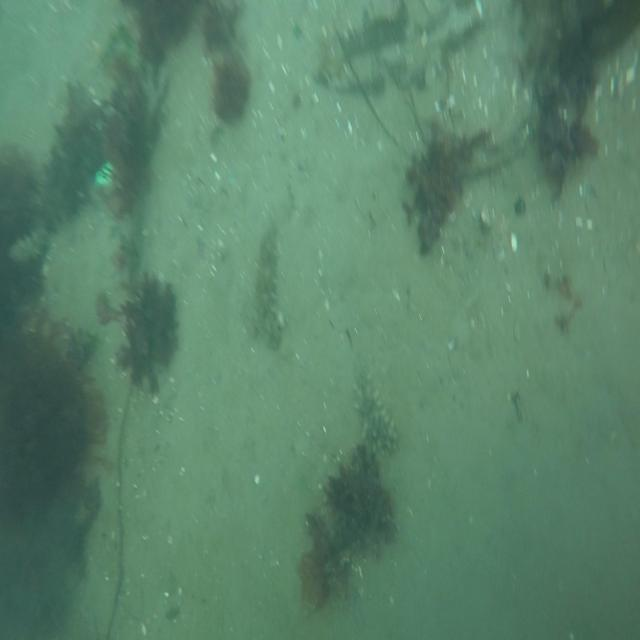holothurian: (350, 358, 400, 460), (253, 222, 284, 352), (7, 226, 54, 268)
